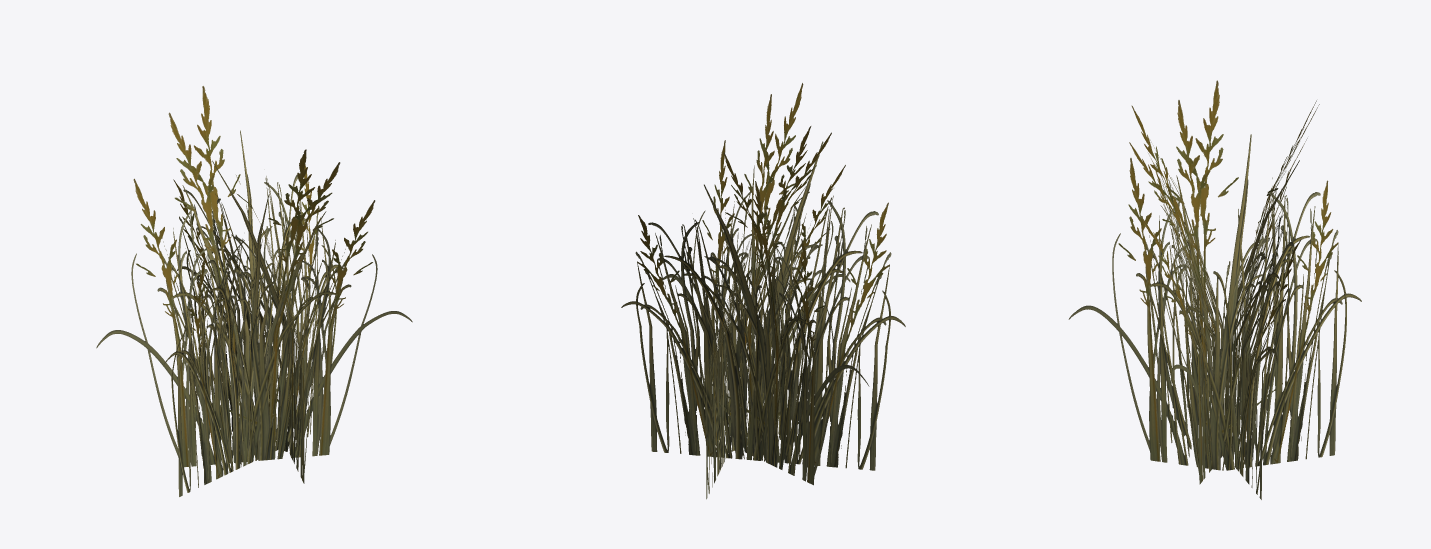
The model's file is Veg_Grass.fbx.
The picture shows the model from 3 angles, left to right: view 1: azimuth 30°, elevation 25°; view 2: azimuth 150°, elevation 25°; view 3: azimuth 270°, elevation 25°; orthographic projection. The views are drawn at different scales.
Parts seen in each view (by area): view 1: Veg_Grass; view 2: Veg_Grass; view 3: Veg_Grass.
Boxes of the visible parts, x1=… form: Veg_Grass: x1=96, y1=86, x2=412, y2=496; Veg_Grass: x1=621, y1=83, x2=905, y2=499; Veg_Grass: x1=1068, y1=80, x2=1361, y2=499.
Size of the model in its own units: 46.75 by 48.12 by 46.74.
